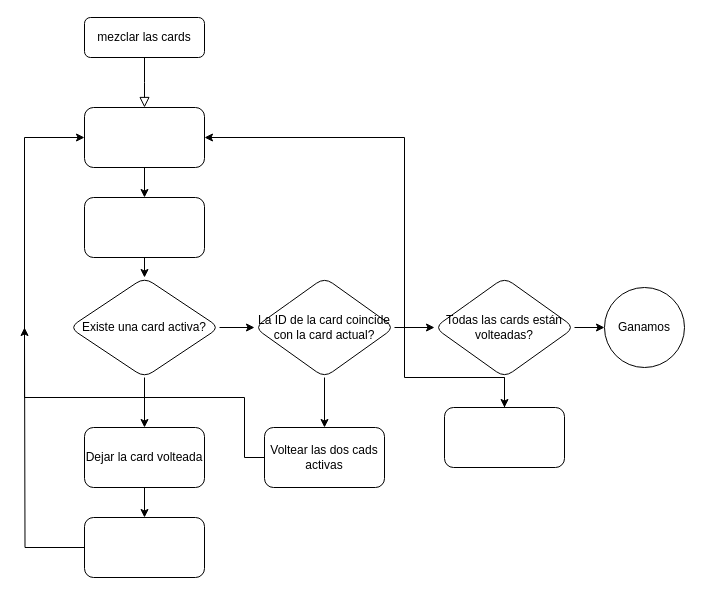
The diagram is 702 pixels wide and 595 high, and some of its shapes have lost their labels. The box of each missing label's shape, as (x1, y1, x2, y2) in pixels:
click en la card: (84, 106, 204, 168)
Dejar las dos cards volteadas: (444, 406, 564, 468)
guardar el numero o ID de la card en un estado: (84, 516, 204, 578)
Revelar el número o imagen: (84, 196, 204, 258)
